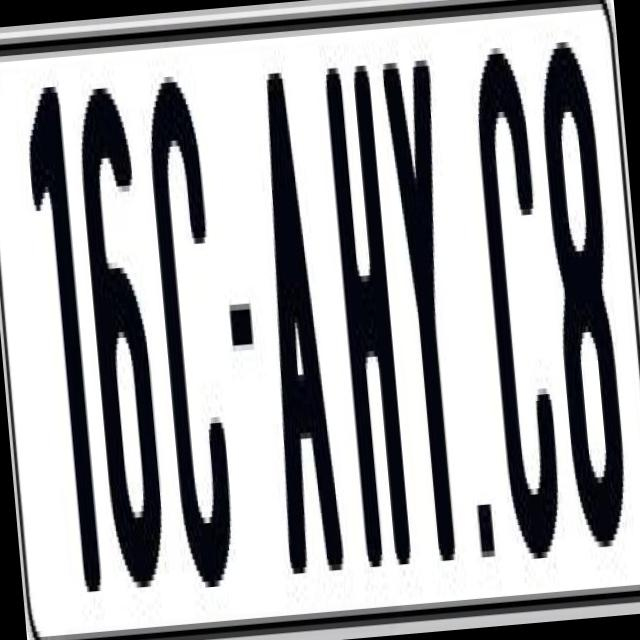1: (21, 69, 102, 610)
6: (70, 85, 172, 612)
8: (534, 22, 640, 566)
A: (245, 64, 350, 586)
C: (140, 68, 245, 600), (467, 52, 562, 560)
H: (322, 59, 418, 578)
Y: (382, 53, 481, 574)
